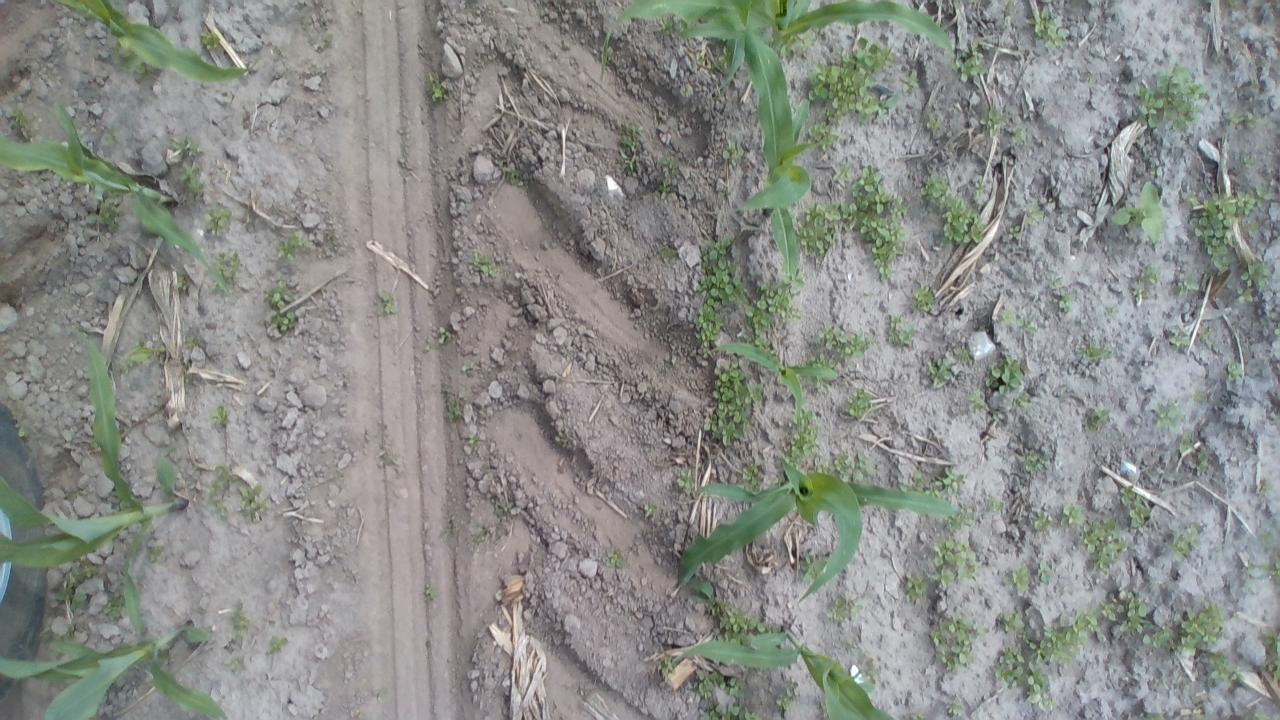Maize: (0, 322, 188, 620), (0, 100, 225, 290), (672, 461, 958, 604), (602, 0, 958, 100), (0, 564, 228, 720), (676, 624, 896, 720), (732, 24, 806, 279), (60, 2, 253, 81), (710, 343, 838, 425)
Weeds: (805, 37, 889, 117), (698, 238, 741, 346), (743, 286, 802, 346), (1142, 73, 1206, 128), (1110, 182, 1164, 246), (1028, 614, 1096, 660), (844, 164, 894, 226), (1192, 195, 1239, 256), (932, 610, 979, 668), (705, 361, 739, 441), (864, 219, 904, 284), (799, 205, 844, 259), (1180, 604, 1224, 650), (942, 199, 978, 245), (1027, 661, 1054, 712), (787, 428, 821, 463), (926, 351, 958, 388), (992, 360, 1023, 396), (1120, 485, 1148, 524), (1082, 520, 1116, 552), (1240, 258, 1274, 288), (888, 316, 919, 346), (1000, 650, 1024, 687), (922, 172, 950, 203), (1120, 596, 1148, 627), (932, 538, 963, 566), (240, 486, 265, 519), (1180, 436, 1207, 464), (180, 161, 201, 197), (818, 320, 844, 349), (954, 55, 984, 80), (810, 124, 838, 150), (204, 208, 231, 234), (932, 566, 972, 583), (1028, 6, 1052, 34), (719, 613, 754, 632), (1179, 268, 1199, 301), (1006, 114, 1028, 144), (214, 464, 230, 505), (844, 330, 870, 354), (911, 287, 934, 313), (1079, 340, 1106, 362), (1207, 657, 1235, 678), (218, 250, 242, 274), (8, 107, 30, 133), (833, 590, 852, 620), (841, 397, 870, 416), (938, 470, 964, 491), (1047, 20, 1069, 44), (774, 684, 801, 703), (853, 456, 874, 480), (276, 308, 297, 332), (1143, 628, 1171, 646), (743, 380, 762, 406), (1174, 530, 1196, 552), (1026, 451, 1048, 473), (276, 236, 298, 258), (900, 70, 920, 94), (1267, 632, 1279, 672), (268, 290, 294, 308), (209, 267, 228, 291), (696, 672, 714, 697), (106, 592, 122, 620), (814, 351, 848, 364), (700, 703, 726, 720), (1154, 404, 1176, 424), (1010, 565, 1030, 586), (468, 255, 490, 274), (924, 111, 946, 130), (730, 698, 752, 717), (231, 602, 247, 628), (1000, 613, 1024, 630), (722, 140, 742, 160), (1142, 261, 1160, 283), (1234, 111, 1256, 129), (1236, 193, 1256, 212), (980, 110, 999, 130), (656, 240, 676, 259), (428, 80, 446, 101), (718, 676, 740, 693), (506, 170, 530, 185), (834, 455, 856, 471), (379, 292, 395, 314), (100, 205, 118, 224), (904, 572, 922, 591), (602, 548, 621, 566), (1256, 477, 1272, 498), (268, 638, 287, 655), (950, 512, 969, 528), (1228, 362, 1244, 381), (202, 32, 218, 51), (432, 326, 451, 342), (1037, 560, 1053, 579), (73, 566, 98, 578), (678, 470, 692, 491), (1062, 504, 1080, 520), (1032, 514, 1048, 532), (1100, 601, 1116, 619), (968, 391, 986, 407), (1095, 406, 1111, 423), (660, 657, 674, 676), (657, 178, 670, 198), (446, 402, 462, 418), (986, 498, 1003, 513), (624, 153, 638, 170), (214, 408, 227, 426), (1058, 296, 1072, 312), (1240, 288, 1254, 304), (621, 136, 635, 152), (14, 422, 28, 436), (743, 468, 756, 483), (499, 496, 512, 510), (425, 582, 437, 596), (661, 156, 674, 168), (1009, 226, 1020, 239), (644, 506, 654, 518), (178, 279, 188, 289), (469, 435, 478, 444)
